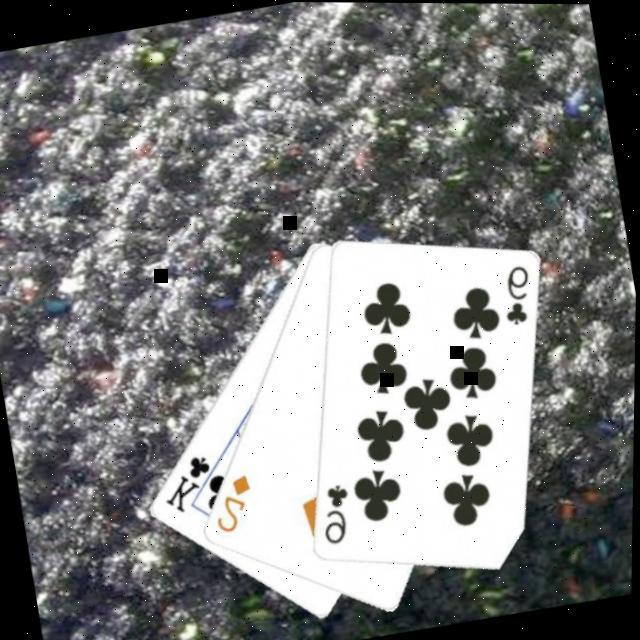2D: (203, 468, 259, 536)
9C: (310, 478, 359, 548), (491, 258, 538, 329)
KC: (152, 448, 230, 518)
